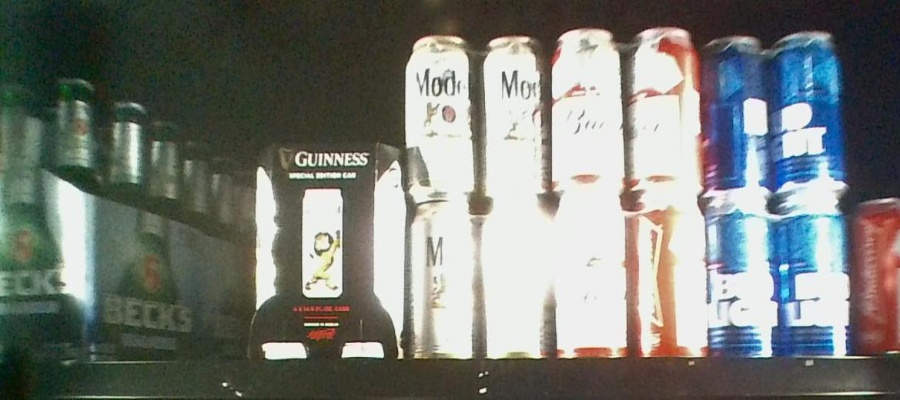bottle: (254, 136, 403, 357), (627, 23, 711, 356), (403, 32, 482, 356), (553, 27, 630, 356), (776, 32, 851, 361), (483, 31, 554, 357), (710, 36, 778, 355)
